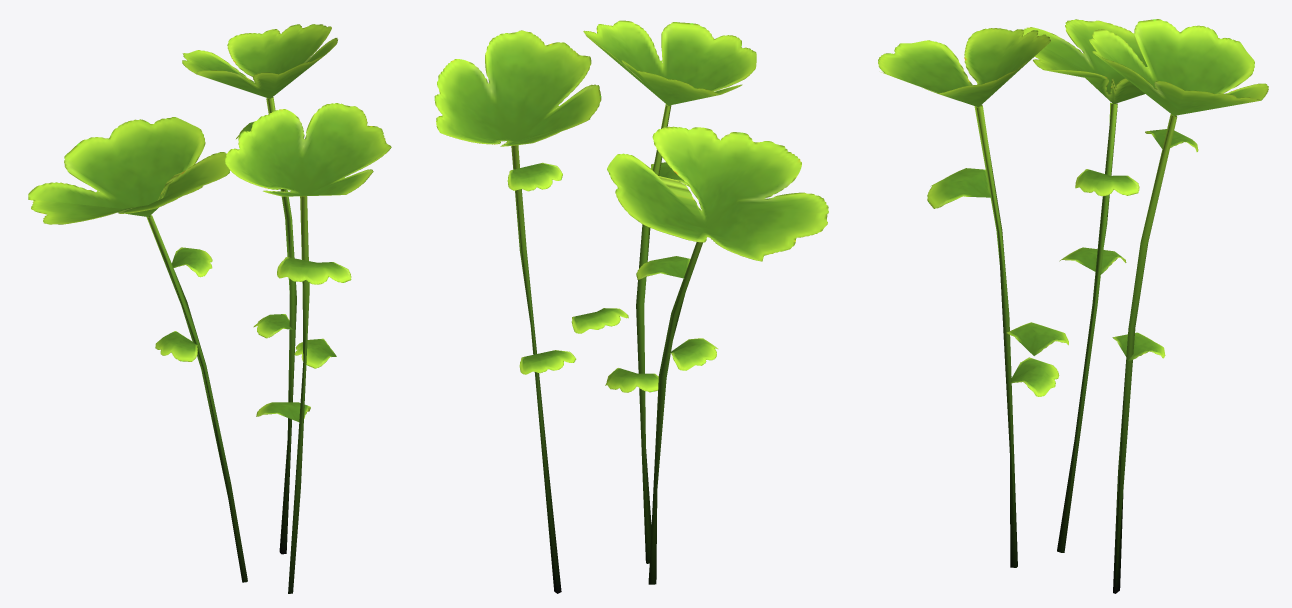
File: Clover_1.gltf
3 views of the same model, side by side, from view 1: azimuth 30°, elevation 25°; view 2: azimuth 150°, elevation 25°; view 3: azimuth 270°, elevation 25° (orthographic). The views are drawn at different scales.
Visible parts, largest first — view 1: Clover_1; view 2: Clover_1; view 3: Clover_1.
Part boxes in pixels (box(x1,y1,x2,y2)): Clover_1: box(28, 24, 391, 593); Clover_1: box(434, 20, 828, 593); Clover_1: box(878, 19, 1268, 593).
Bounding box in the file's own units: 0.7963 × 1.14 × 0.7639.
Materials: 1 (1 with a texture image).
